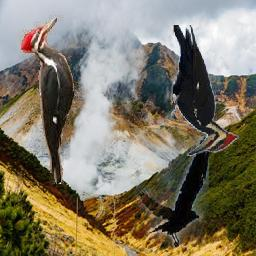Crow: (135, 136, 210, 248)
Woodpecker: (20, 16, 75, 185), (172, 26, 241, 157)
